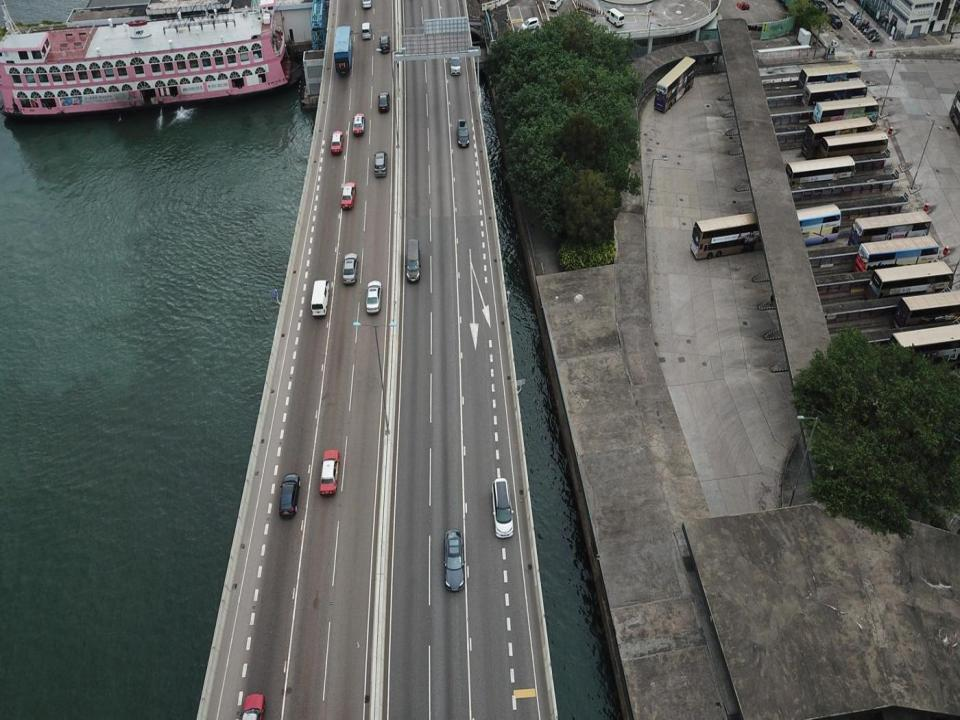bus: (692, 209, 768, 260), (792, 60, 861, 109), (893, 323, 960, 373), (872, 266, 955, 306), (785, 203, 852, 252), (861, 206, 934, 250), (823, 132, 897, 174), (651, 51, 699, 115), (858, 240, 938, 278), (800, 117, 874, 158), (816, 100, 887, 137), (786, 154, 854, 192), (805, 80, 864, 117), (905, 292, 960, 327), (333, 26, 355, 76)
car: (490, 476, 517, 538), (442, 529, 466, 592), (317, 449, 342, 498), (278, 471, 301, 519), (236, 690, 266, 719), (365, 279, 382, 316), (342, 250, 358, 287), (340, 181, 358, 209), (328, 130, 346, 154), (456, 119, 470, 149), (828, 10, 844, 33), (520, 15, 540, 33), (376, 90, 391, 112), (353, 114, 366, 137), (378, 33, 391, 55)
van: (404, 238, 422, 286), (310, 279, 330, 318), (605, 4, 627, 26), (373, 150, 389, 177), (448, 48, 462, 77), (359, 22, 371, 40), (548, 0, 565, 10)
